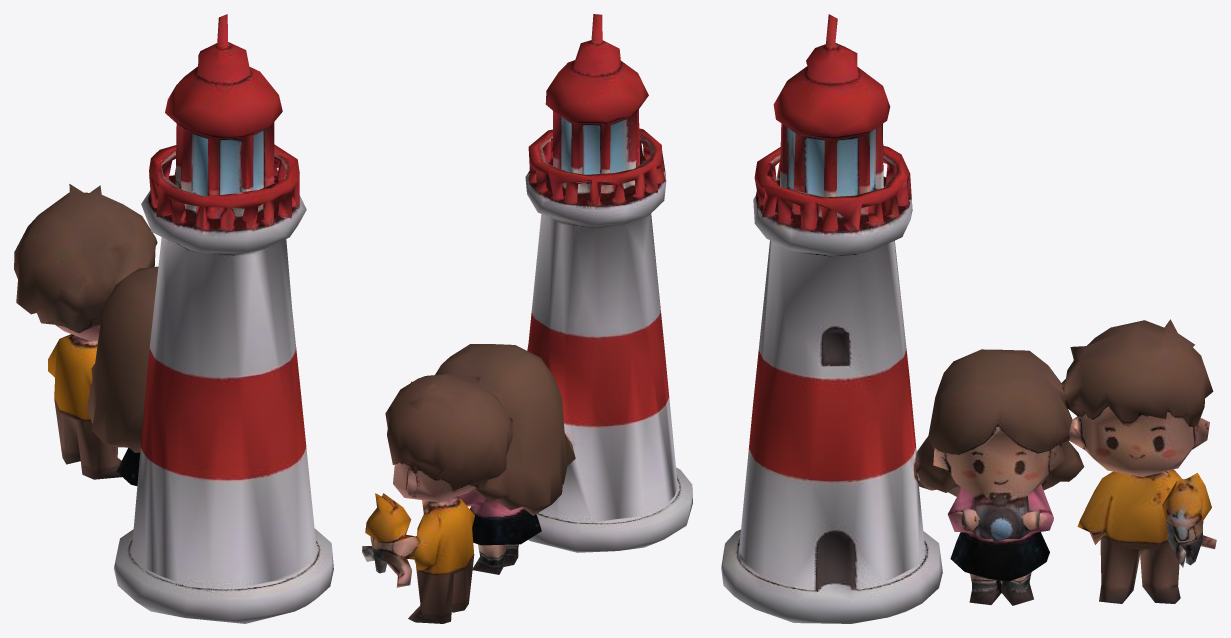
File: demo_lighthouse_chibi.glb
The picture shows the model from 3 angles, left to right: view 1: azimuth 30°, elevation 25°; view 2: azimuth 150°, elevation 25°; view 3: azimuth 270°, elevation 25°; orthographic projection. The views are drawn at different scales.
Visible parts, largest first — view 1: tripo_node_1247d60f-cb70-4c0c-b351-2b9d2833403e.001; view 2: tripo_node_1247d60f-cb70-4c0c-b351-2b9d2833403e.001; view 3: tripo_node_1247d60f-cb70-4c0c-b351-2b9d2833403e.001.
Boxes of the visible parts, x1,y1,x2,y2 form: tripo_node_1247d60f-cb70-4c0c-b351-2b9d2833403e.001: (14,14,333,623); tripo_node_1247d60f-cb70-4c0c-b351-2b9d2833403e.001: (362,14,692,623); tripo_node_1247d60f-cb70-4c0c-b351-2b9d2833403e.001: (721,14,1216,623).
Bounding box in the file's own units: 0.353 × 0.9961 × 0.7866.
1 material, 1 textured.
